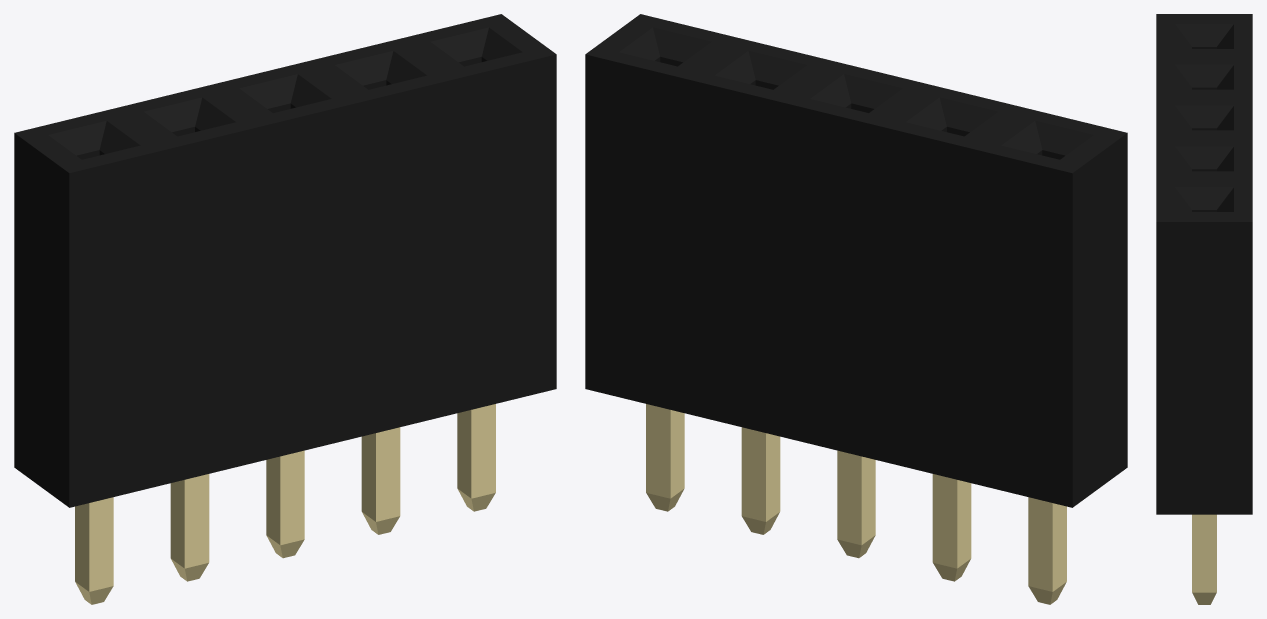
File: sfe-1x05_pth_2.54mm_8.5mm.glb
3 views of the same model, side by side, from view 1: azimuth 30°, elevation 25°; view 2: azimuth 150°, elevation 25°; view 3: azimuth 270°, elevation 25° (orthographic). The views are drawn at different scales.
Visible parts, largest first — view 1: 0_0_0_0, 0.9166666666666666_0.75_0.4166666666666667_0.9; view 2: 0_0_0_0, 0.9166666666666666_0.75_0.4166666666666667_0.9; view 3: 0_0_0_0, 0.9166666666666666_0.75_0.4166666666666667_0.9.
Boxes of the visible parts, x1,y1,x2,y2 form: 0_0_0_0: (14,14,556,507); 0.9166666666666666_0.75_0.4166666666666667_0.9: (75,404,495,604); 0_0_0_0: (585,14,1127,507); 0.9166666666666666_0.75_0.4166666666666667_0.9: (646,404,1066,604); 0_0_0_0: (1156,14,1252,514); 0.9166666666666666_0.75_0.4166666666666667_0.9: (1192,514,1216,604).
Bounding box in the file's own units: 1.29 × 1.17 × 0.254.
